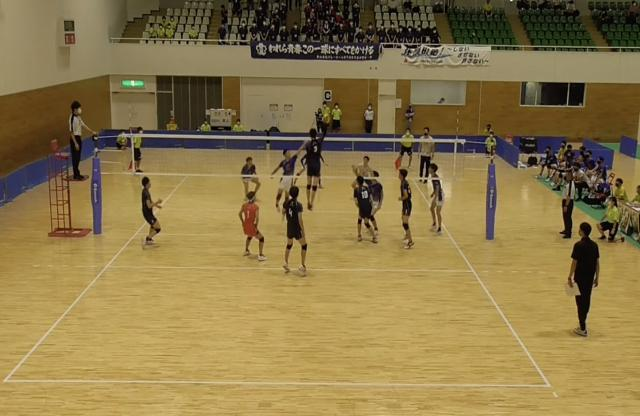spike: (300, 112, 334, 215)
